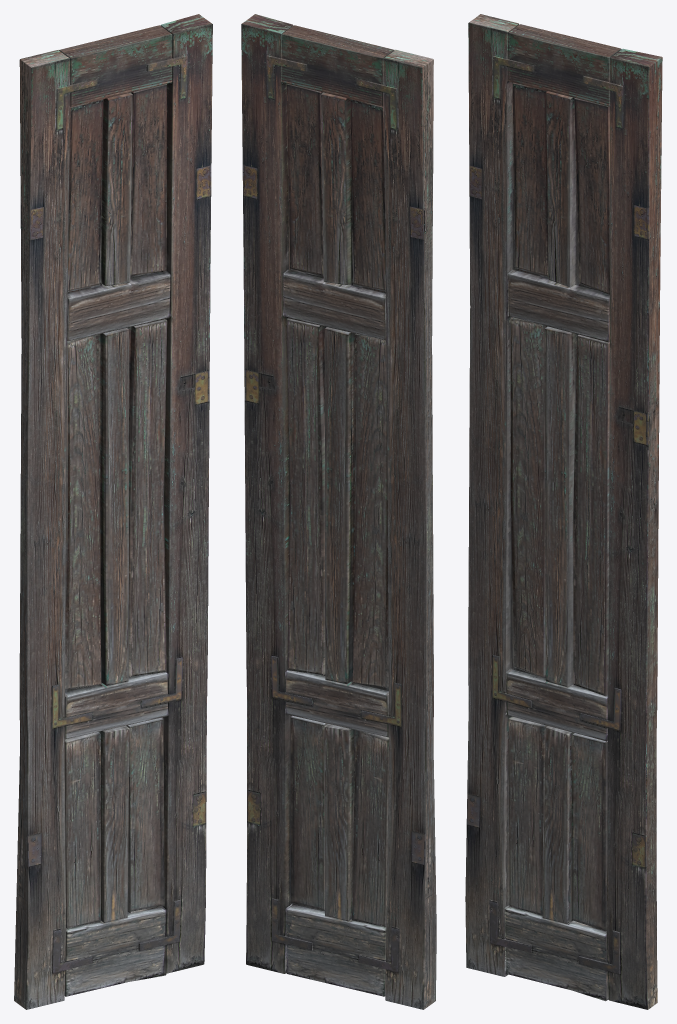
The model's file is SM_Door_01_01.fbx.
The picture shows the model from 3 angles, left to right: view 1: azimuth 30°, elevation 25°; view 2: azimuth 150°, elevation 25°; view 3: azimuth 330°, elevation 25°; orthographic projection.
Parts seen in each view (by area): view 1: sm_Door_01_01_LOD0; view 2: sm_Door_01_01_LOD0; view 3: sm_Door_01_01_LOD0.
Boxes of the visible parts, left/top/right/bottom form: sm_Door_01_01_LOD0: left=14, top=14, right=212, bottom=1009; sm_Door_01_01_LOD0: left=241, top=14, right=436, bottom=1009; sm_Door_01_01_LOD0: left=465, top=14, right=662, bottom=1009.
Size of the model in its own units: 8.67 by 59.96 by 293.
